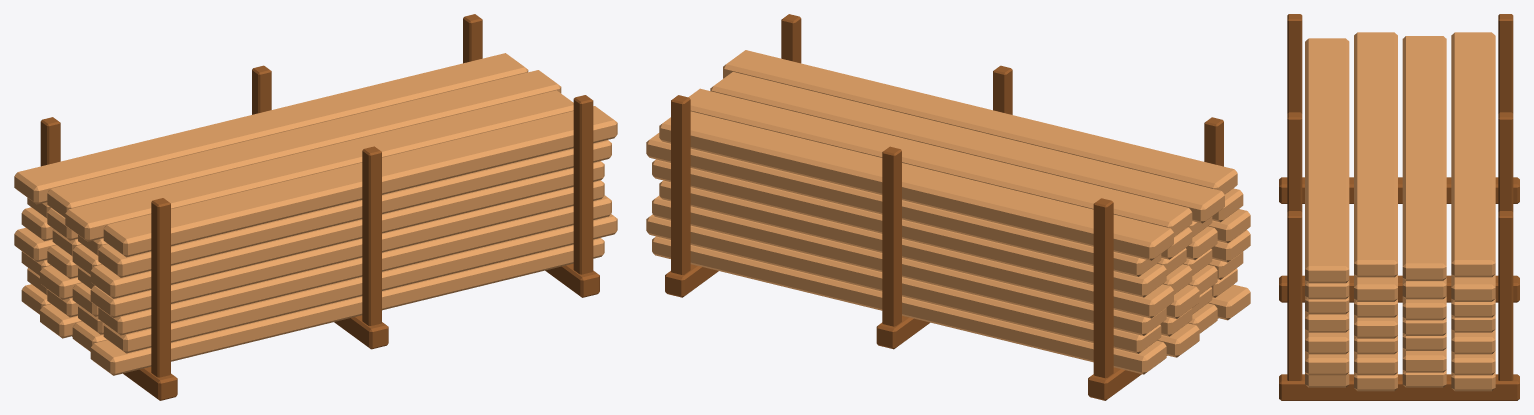
Rendered from Plank Holder.fbx.
3 views of the same model, side by side, from view 1: azimuth 30°, elevation 25°; view 2: azimuth 150°, elevation 25°; view 3: azimuth 270°, elevation 25° (orthographic). The views are drawn at different scales.
Visible parts, largest first — view 1: Plank Holder; view 2: Plank Holder; view 3: Plank Holder.
Part boxes in pixels (x1,y1,x2,y2): Plank Holder: [14, 14, 617, 400]; Plank Holder: [646, 14, 1250, 400]; Plank Holder: [1279, 14, 1519, 400].
Size of the model in its own units: 468 by 170 by 201.
